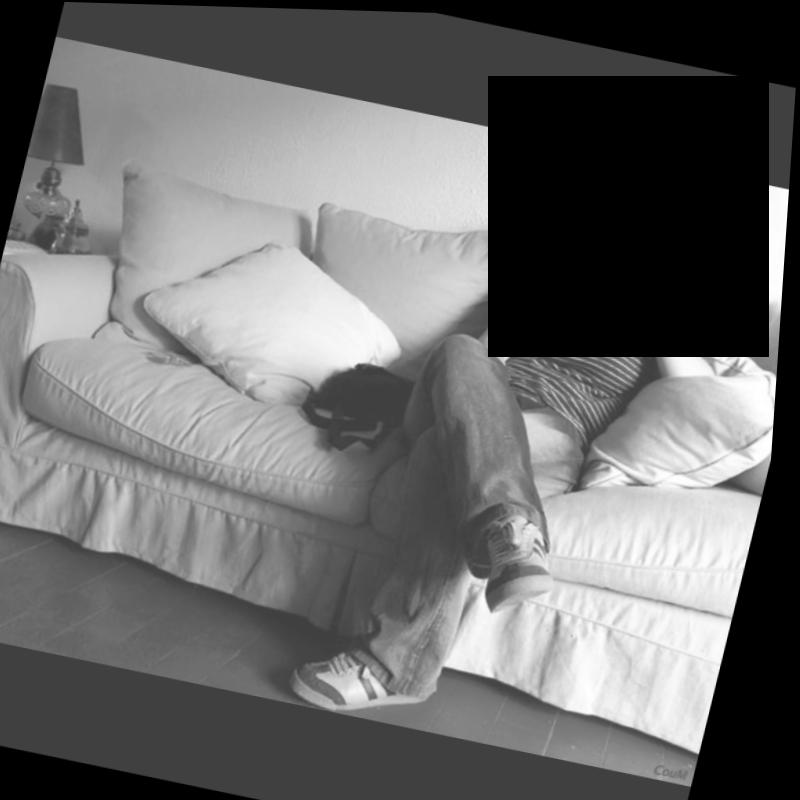pillow: (117, 207, 430, 436), (286, 190, 532, 409), (86, 162, 334, 375), (580, 323, 784, 530), (505, 224, 758, 378), (720, 277, 786, 494)
